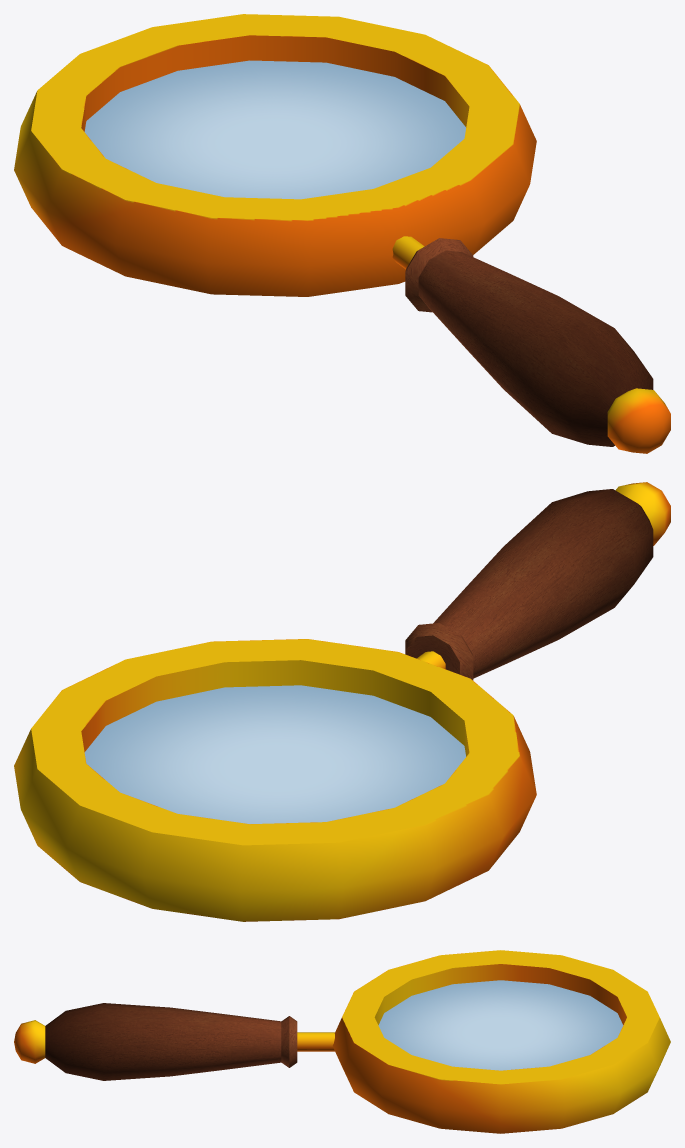
File: MagnifyingGlass.FBX
The picture shows the model from 3 angles, top to bottom: view 1: azimuth 30°, elevation 25°; view 2: azimuth 150°, elevation 25°; view 3: azimuth 270°, elevation 25°; orthographic projection. The views are drawn at different scales.
Parts seen in each view (by area): view 1: MagnifyingGlass; view 2: MagnifyingGlass; view 3: MagnifyingGlass.
Boxes of the visible parts, <box> form: MagnifyingGlass: <box>14,14,670,453</box>; MagnifyingGlass: <box>14,482,670,921</box>; MagnifyingGlass: <box>14,950,670,1133</box>.
Bounding box in the file's own units: 19.22 × 4.49 × 37.13.
2 materials, 2 textured.
